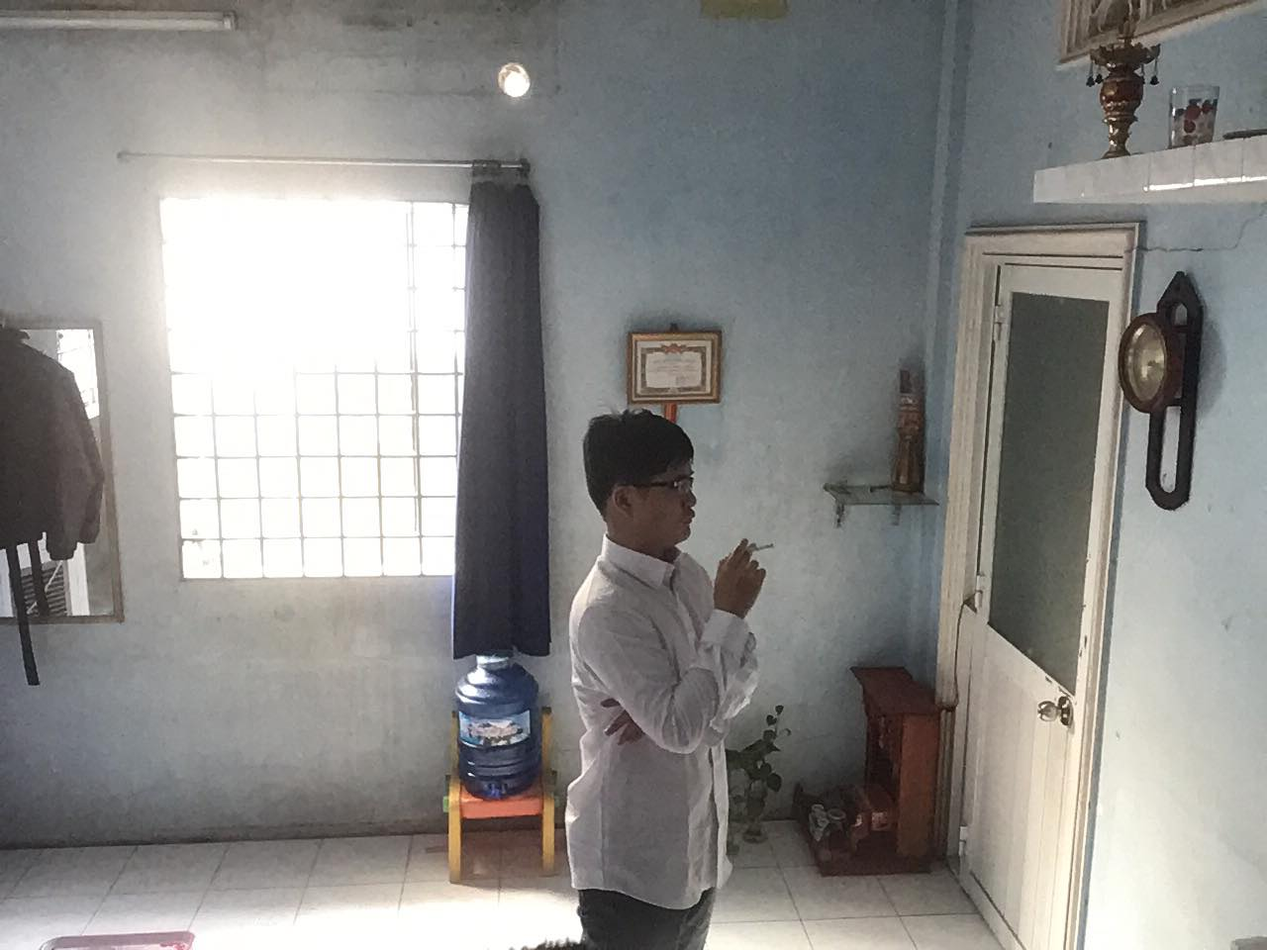cigarette: (740, 536, 778, 556)
person: (523, 383, 787, 950)
